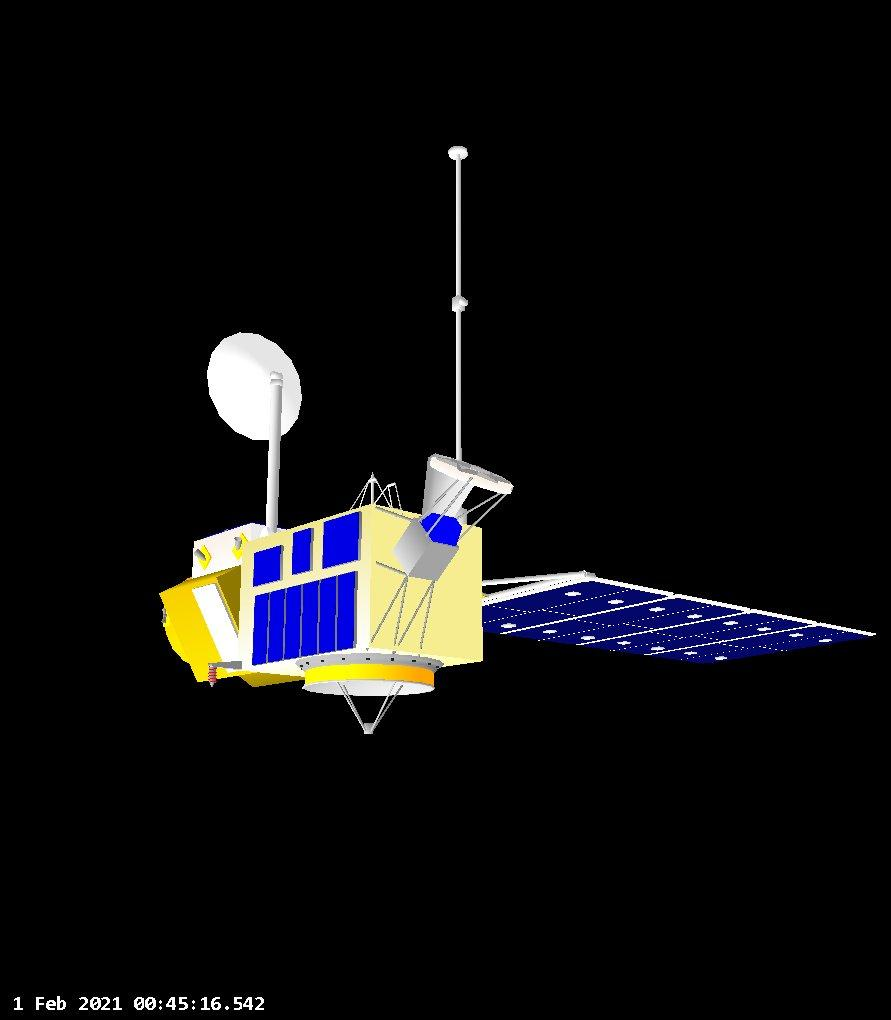antenna: (439, 137, 480, 466), (206, 329, 307, 442), (302, 670, 443, 738), (422, 444, 521, 503)
body: (152, 497, 485, 693)
solar: (479, 561, 879, 678), (245, 568, 363, 672), (318, 507, 367, 568), (248, 541, 283, 589), (286, 524, 314, 575)
